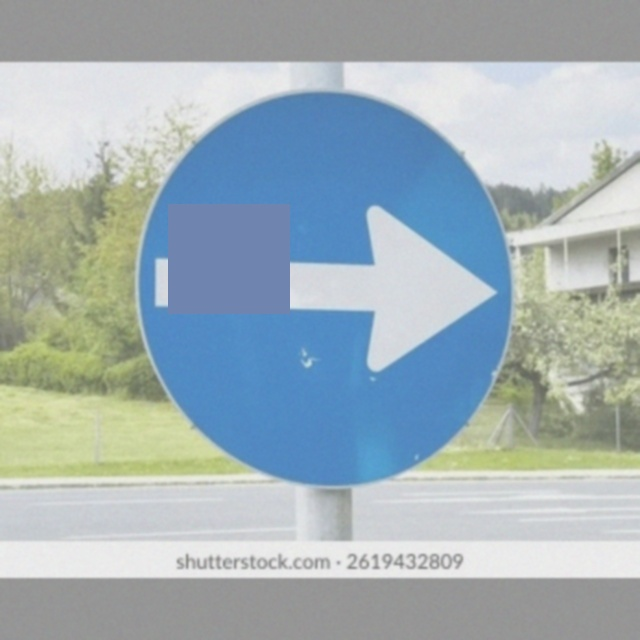Compulsory_Turn_Right: (135, 88, 513, 490)
